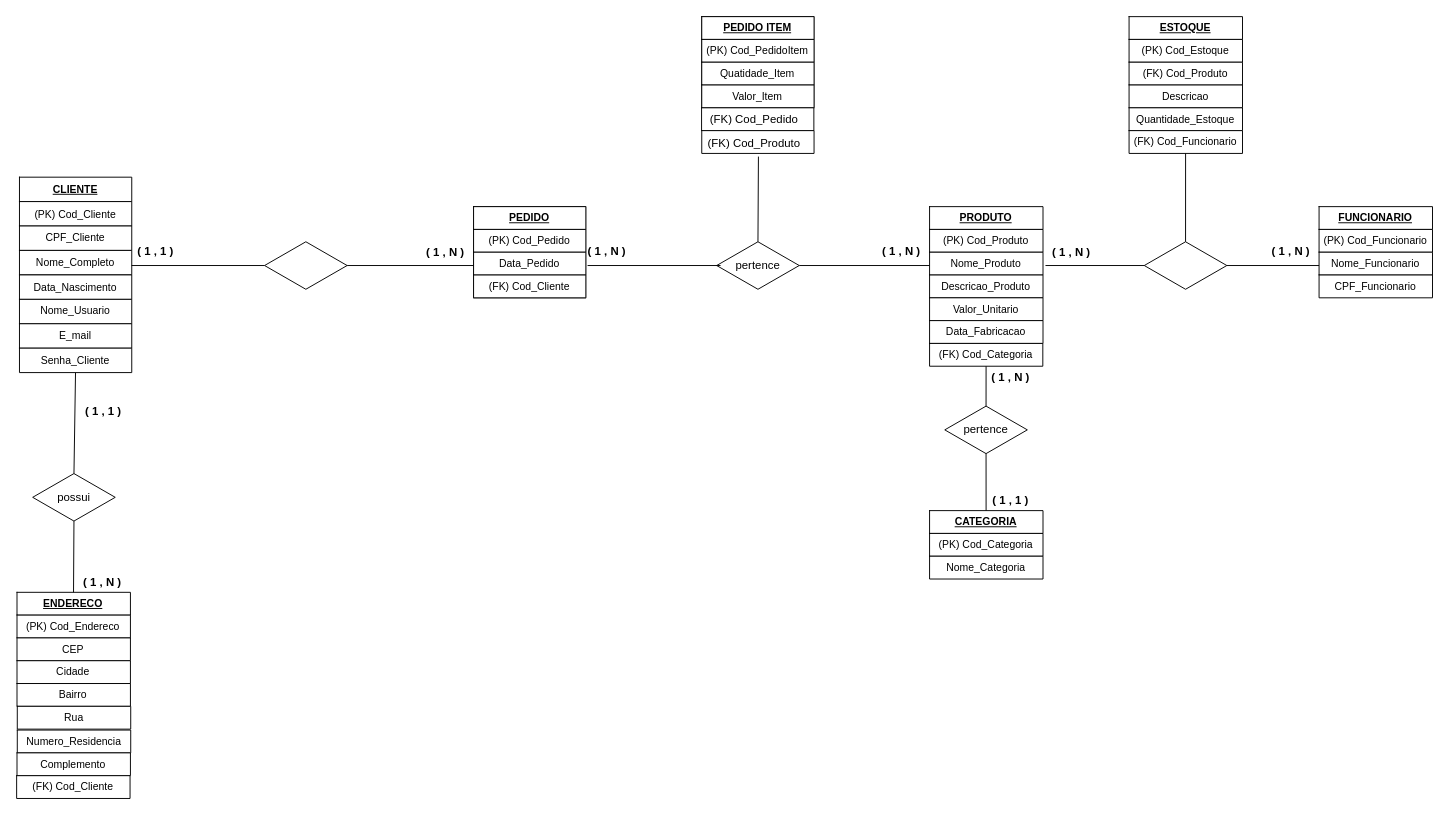
The diagram is 1450 pixels wide and 815 high, and some of its shapes have lost their labels. The centre of each missing label's shape, as x and y in pixels:
"atualizado" goes at point (1185, 265).
"realiza" goes at point (305, 265).
